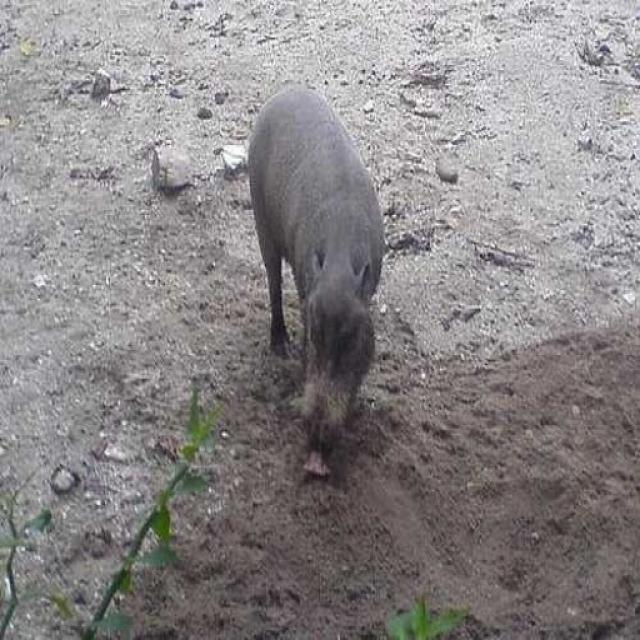pig: (229, 92, 457, 510)
